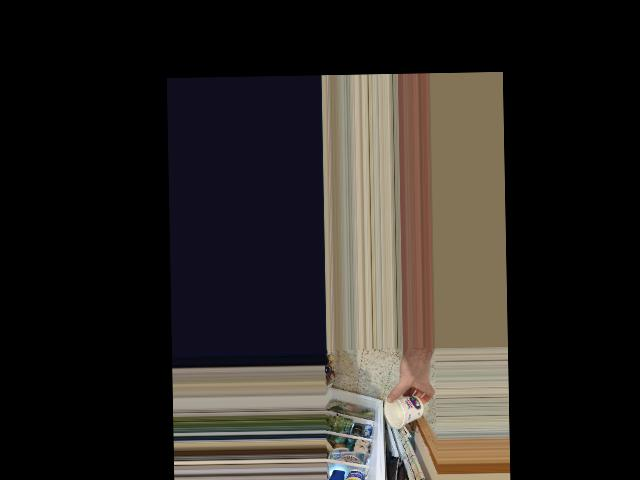cotage: (390, 391, 424, 431)
